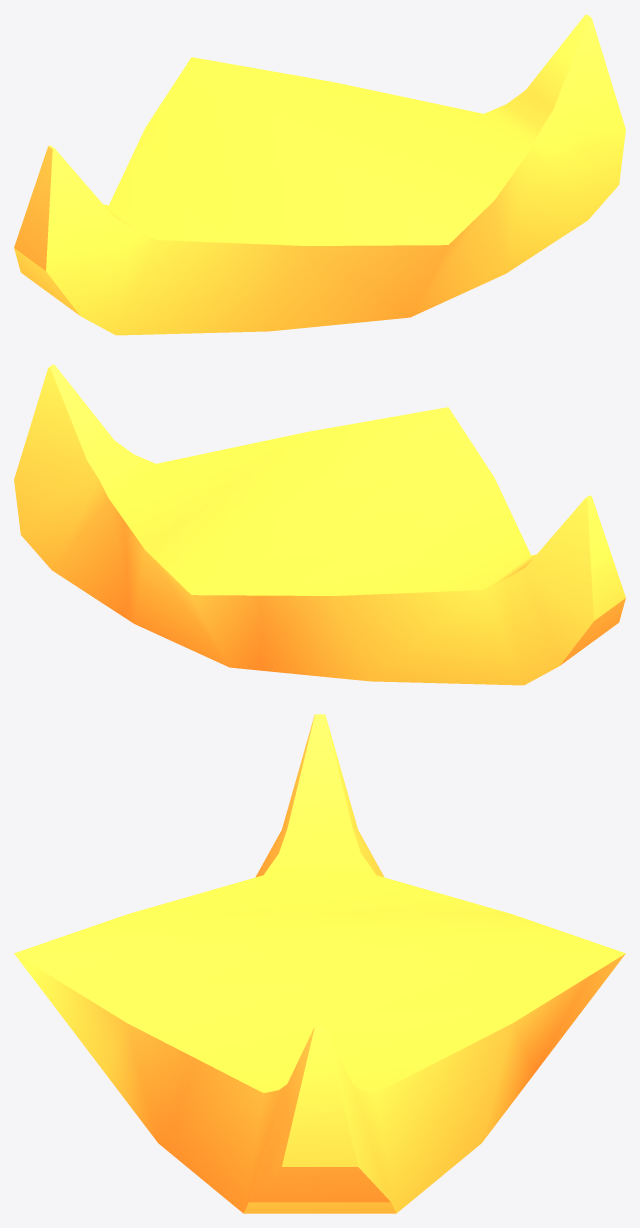
The model's file is gold_guard_007.glb.
3 views of the same model, one above another, from view 1: azimuth 30°, elevation 25°; view 2: azimuth 150°, elevation 25°; view 3: azimuth 270°, elevation 25° (orthographic). The views are drawn at different scales.
Visible parts, largest first — view 1: gold_guard_007; view 2: gold_guard_007; view 3: gold_guard_007.
Part boxes in pixels (<box>): gold_guard_007: <box>14,14,625,335</box>; gold_guard_007: <box>14,364,625,685</box>; gold_guard_007: <box>14,714,625,1213</box>.
Bounding box in the file's own units: 4.04 × 1.15 × 3.1.
1 material, 1 textured.
